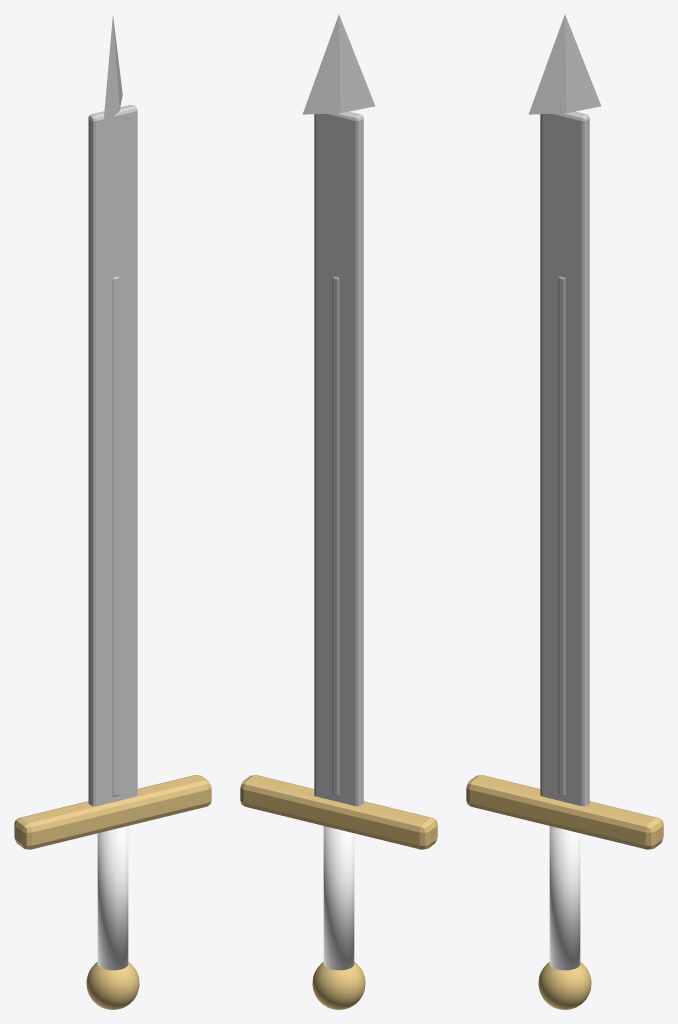
The model's file is kilic_1.glb.
3 renders of one model, left to right at view 1: azimuth 30°, elevation 25°; view 2: azimuth 150°, elevation 25°; view 3: azimuth 330°, elevation 25°, orthographic.
Parts seen in each view (by area): view 1: Cube, Cube.002, Cone.001, Cube.001, Sphere, Cone; view 2: Cube, Cube.002, Cone.001, Cube.001, Cone, Sphere; view 3: Cube, Cube.002, Cone.001, Cube.001, Cone, Sphere.
Part boxes in pixels (x1,y1,x2,y2): Cube: (88, 105, 137, 806); Cube.002: (14, 775, 211, 849); Cone.001: (97, 826, 128, 970); Cube.001: (112, 276, 119, 796); Sphere: (86, 962, 139, 1009); Cone: (103, 15, 122, 125); Cube: (314, 111, 363, 806); Cube.002: (240, 775, 437, 849); Cone.001: (323, 826, 354, 970); Cube.001: (332, 276, 339, 796); Cone: (302, 14, 375, 114); Sphere: (312, 962, 365, 1009); Cube: (540, 111, 589, 806); Cube.002: (466, 775, 663, 849); Cone.001: (549, 826, 580, 970); Cube.001: (558, 276, 565, 796); Cone: (528, 14, 601, 114); Sphere: (538, 962, 591, 1009).
Bounding box in the file's own units: 0.45 × 2.27 × 0.1105.
